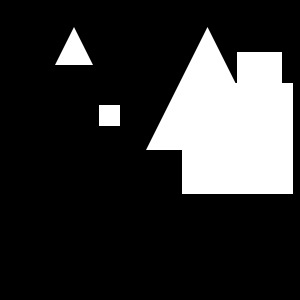circle: (182, 83, 293, 194), (237, 52, 282, 97), (99, 105, 120, 126)
triangle: (146, 27, 269, 150), (55, 27, 93, 65)
